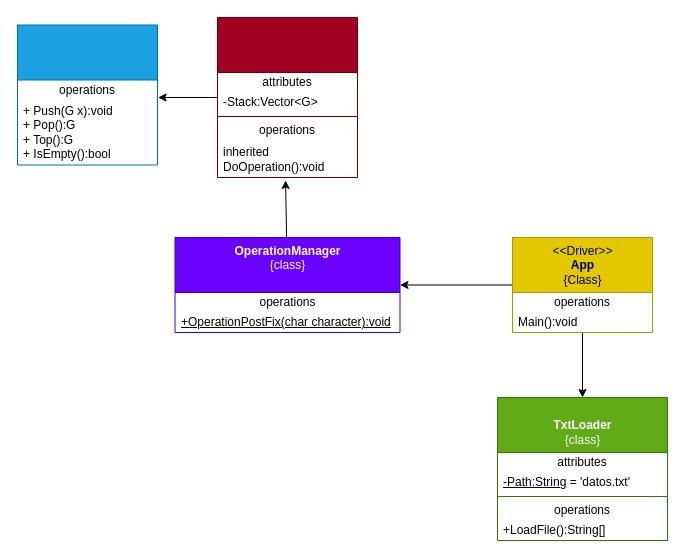
Some shapes in this 685 by 558 pixel diagram are drawn without their labels. The box of each missing label's shape, as (x1, y1, x2, y2) in pixels:
<<Stack used>> PostFixStack<G> {class}: (216, 16, 358, 178)
DynamicStack<G> {interface}: (16, 24, 158, 165)
